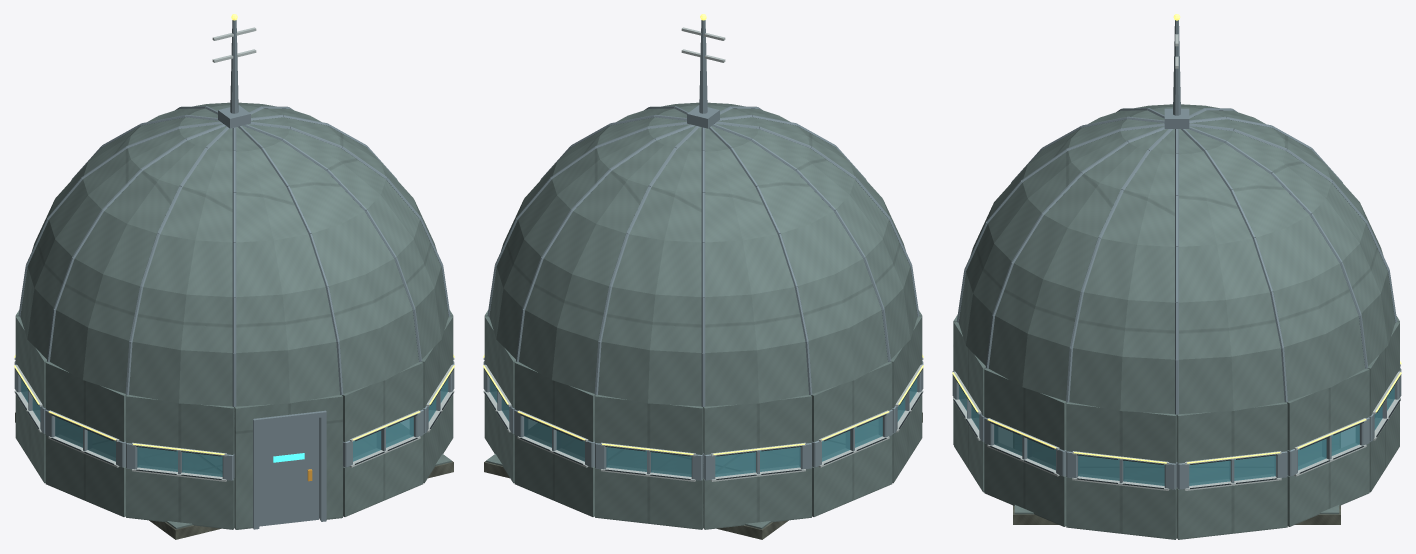
Rendered from RibDome_6p5m.glb.
3 views of the same model, side by side, from view 1: azimuth 30°, elevation 25°; view 2: azimuth 150°, elevation 25°; view 3: azimuth 270°, elevation 25° (orthographic).
Parts seen in each view (by area): view 1: Hab_Dome_Sector_30deg.009, Hab_Dome_Sector_30deg.008, Hab_Dome_Sector_30deg.010, Hab_Dome_Sector_30deg.007, Hab_Wall_Window_2m.058, Hab_Dome_Sector_30deg.011, Hab_Dome_Sector_30deg.006, Hab_Wall_Window_2m.057, Hab_Wall_Window_2m.059, Hab_Wall_Door_Low_2p5m.001, Hab_Pressure_Door.004, Hab_Wall_Window_2m.056 (+10 smaller); view 2: Hab_Dome_Sector_30deg.005, Hab_Dome_Sector_30deg.004, Hab_Dome_Sector_30deg.006, Hab_Dome_Sector_30deg.003, Hab_Wall_Window_2m.054, Hab_Wall_Window_2m.055, Hab_Dome_Sector_30deg.007, Hab_Dome_Sector_30deg.002, Hab_Wall_Window_2m.053, Hab_Wall_Window_2m.056, Hab_Wall_Window_2m.057, Hab_Wall_Window_2m.052 (+10 smaller); view 3: Hab_Dome_Sector_30deg.001, Hab_Dome_Sector_30deg.012, Hab_Dome_Sector_30deg.002, Hab_Dome_Sector_30deg.011, Hab_Wall_Window_2m.051, Hab_Wall_Window_2m.061, Hab_Dome_Sector_30deg.003, Hab_Dome_Sector_30deg.010, Hab_Wall_Window_2m.052, Hab_Wall_Window_2m.060, Hab_Wall_Window_2m.053, Hab_Wall_Window_2m.059 (+9 smaller).
Boxes of the visible parts, box(x1,y1,x2,y2) form: Hab_Dome_Sector_30deg.009: box(232, 127, 339, 406); Hab_Dome_Sector_30deg.008: box(125, 126, 232, 406); Hab_Dome_Sector_30deg.010: box(238, 125, 418, 394); Hab_Dome_Sector_30deg.007: box(47, 124, 226, 393); Hab_Wall_Window_2m.058: box(126, 395, 234, 529); Hab_Dome_Sector_30deg.011: box(243, 124, 448, 361); Hab_Dome_Sector_30deg.006: box(18, 121, 222, 358); Hab_Wall_Window_2m.057: box(45, 362, 126, 516); Hab_Wall_Window_2m.059: box(342, 362, 423, 516); Hab_Wall_Door_Low_2p5m.001: box(234, 395, 342, 529); Hab_Pressure_Door.004: box(259, 418, 318, 526); Hab_Wall_Window_2m.056: box(14, 316, 47, 483); Hab_Dome_Sector_30deg.005: box(701, 127, 808, 406); Hab_Dome_Sector_30deg.004: box(594, 126, 701, 406); Hab_Dome_Sector_30deg.006: box(708, 126, 887, 394); Hab_Dome_Sector_30deg.003: box(516, 124, 695, 393); Hab_Wall_Window_2m.054: box(595, 395, 703, 529); Hab_Wall_Window_2m.055: box(703, 395, 811, 529); Hab_Dome_Sector_30deg.007: box(712, 124, 917, 361); Hab_Dome_Sector_30deg.002: box(487, 121, 690, 358); Hab_Wall_Window_2m.053: box(514, 362, 595, 516); Hab_Wall_Window_2m.056: box(811, 362, 892, 516); Hab_Wall_Window_2m.057: box(890, 316, 923, 483); Hab_Wall_Window_2m.052: box(483, 316, 516, 483); Hab_Dome_Sector_30deg.001: box(1175, 129, 1284, 414); Hab_Dome_Sector_30deg.012: box(1066, 129, 1174, 413); Hab_Dome_Sector_30deg.002: box(1181, 129, 1364, 402); Hab_Dome_Sector_30deg.011: box(985, 126, 1168, 400); Hab_Wall_Window_2m.051: box(1177, 402, 1287, 539); Hab_Wall_Window_2m.061: box(1066, 402, 1176, 539); Hab_Dome_Sector_30deg.003: box(1188, 126, 1395, 368); Hab_Dome_Sector_30deg.010: box(956, 123, 1164, 365); Hab_Wall_Window_2m.052: box(1287, 368, 1369, 526); Hab_Wall_Window_2m.060: box(984, 368, 1066, 526); Hab_Wall_Window_2m.053: box(1367, 322, 1401, 492); Hab_Wall_Window_2m.059: box(952, 322, 986, 492).
Size of the model in its own units: 8.23 by 8.92 by 8.23.
9 materials, 2 textured.
